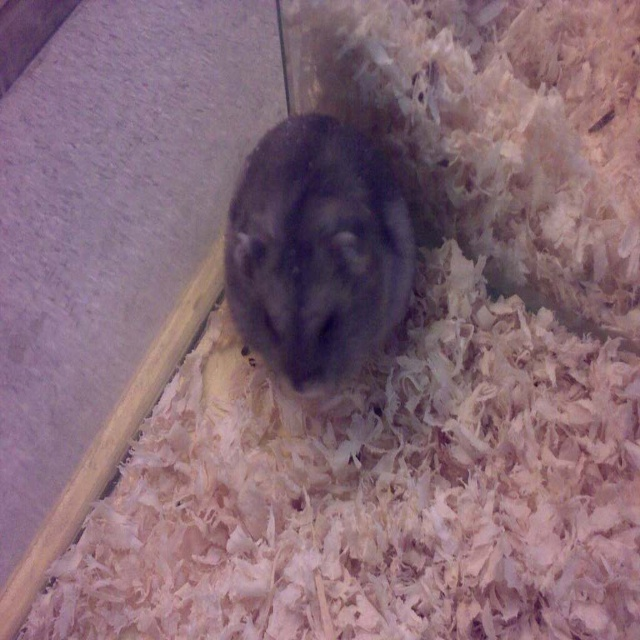Mouse: (224, 111, 417, 396)
